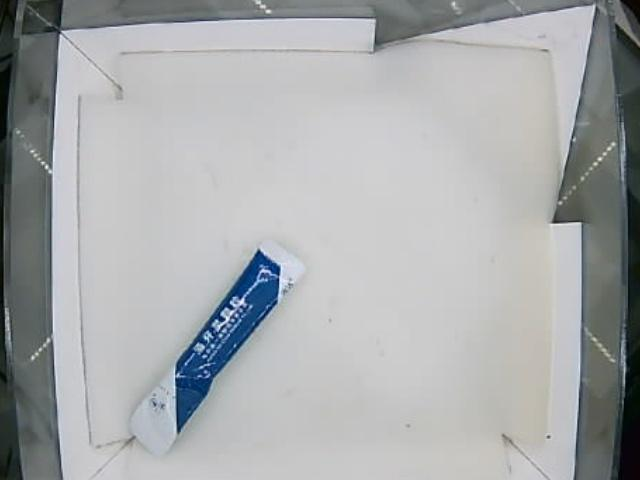Medicine: (129, 241, 304, 458)
